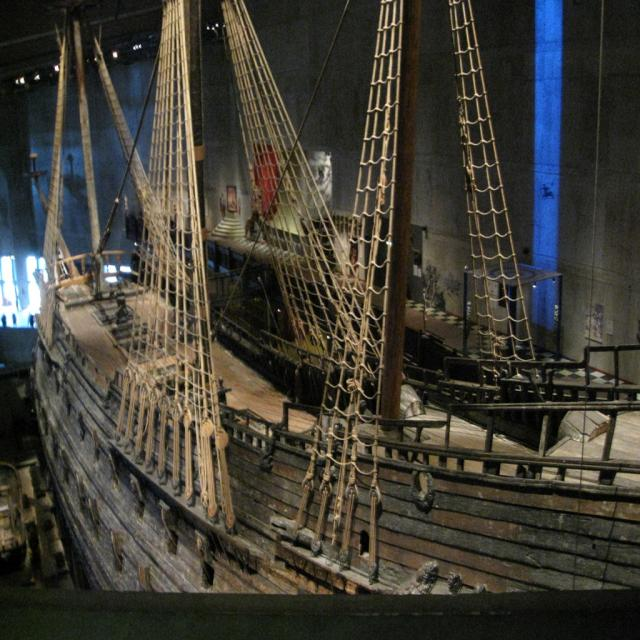Boat: (24, 0, 623, 580)
